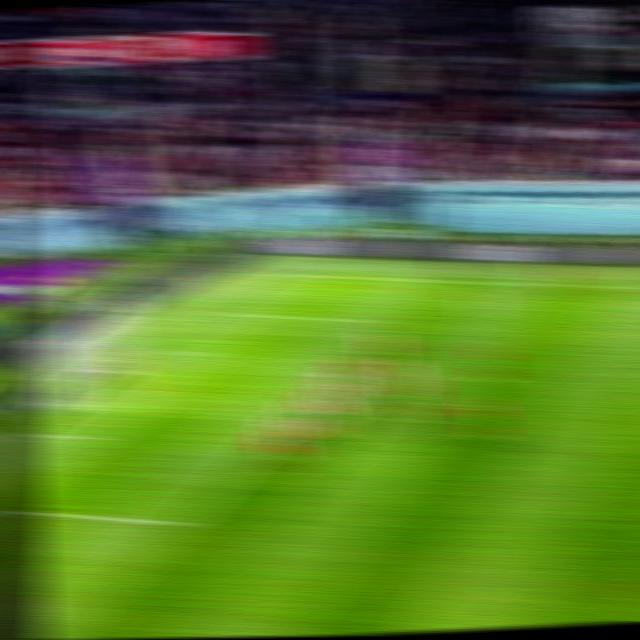bigarea_bottom_inner: (157, 508, 197, 535)
bigarea_top_inner: (369, 313, 402, 329)
bigarea_top_outter: (197, 303, 231, 319)
bottom_arc_area_intersection: (246, 429, 284, 449)
corner: (254, 267, 289, 280)
smallarea_bottom_inner: (81, 424, 120, 448)
smallarea_bottom_outter: (10, 422, 47, 441)
smallarea_top_inner: (196, 343, 232, 362)
smallarea_top_outter: (139, 340, 175, 356)
top_arc_area_intersection: (323, 359, 359, 374)
